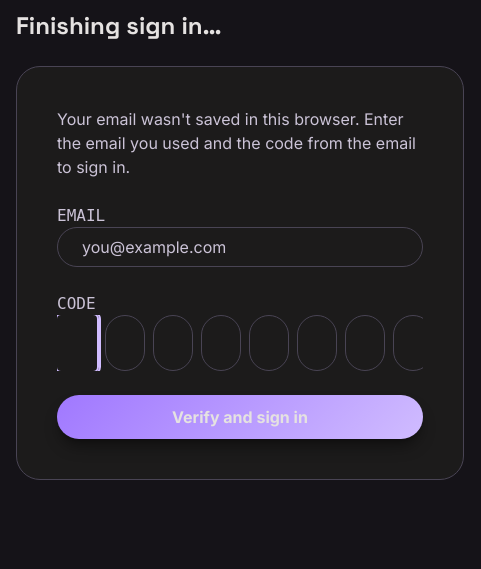
Test: AuthCallbackPage — Functionality & Security › manual code entry › requires both email and code for manual submission
Click the button "Verify and sign in".
click(240, 417)  # box 57,395 -> 423,439
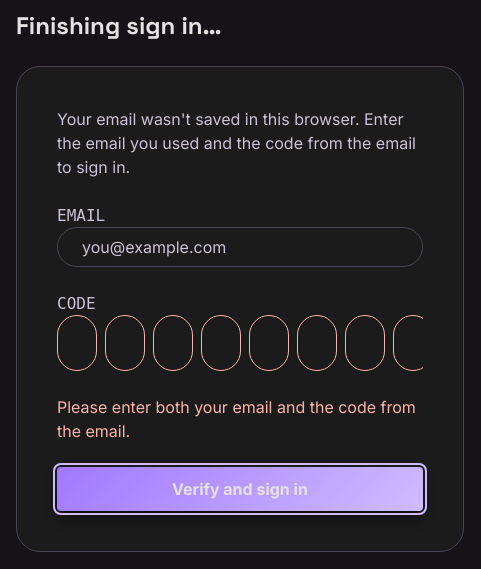
Result: the text "Please enter both your email and the code from the email." is shown at 57,395 -> 423,443
